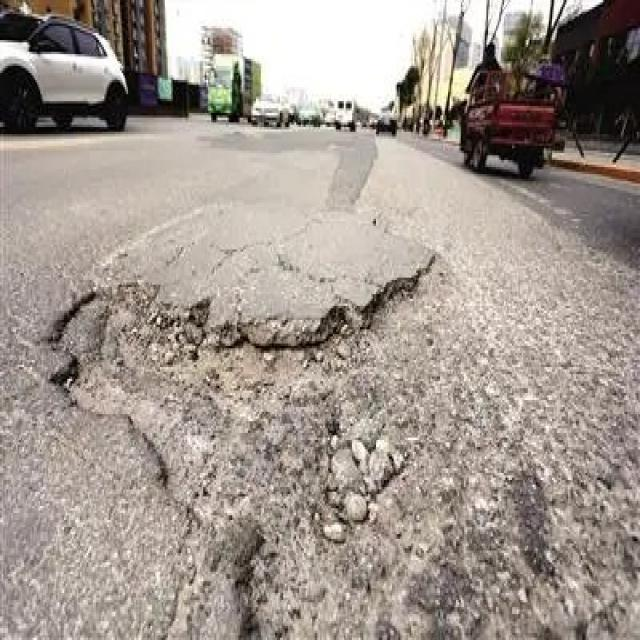Pothole: (48, 254, 446, 638)
